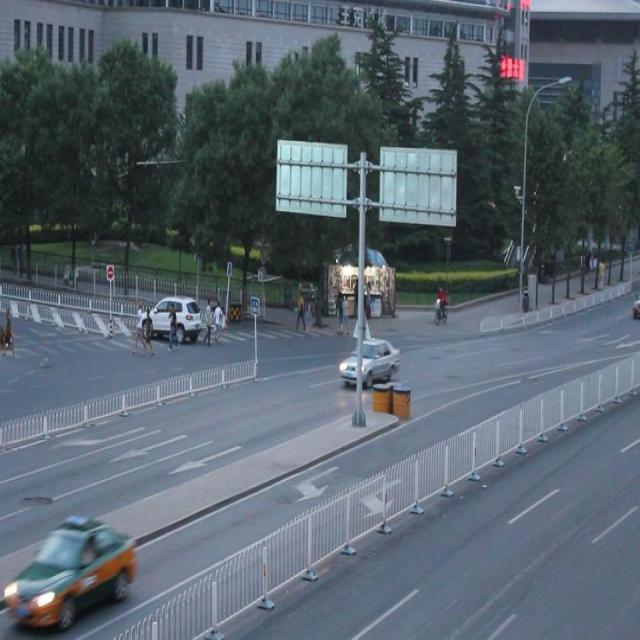car: (11, 512, 136, 620), (140, 294, 202, 341), (340, 334, 398, 384)
